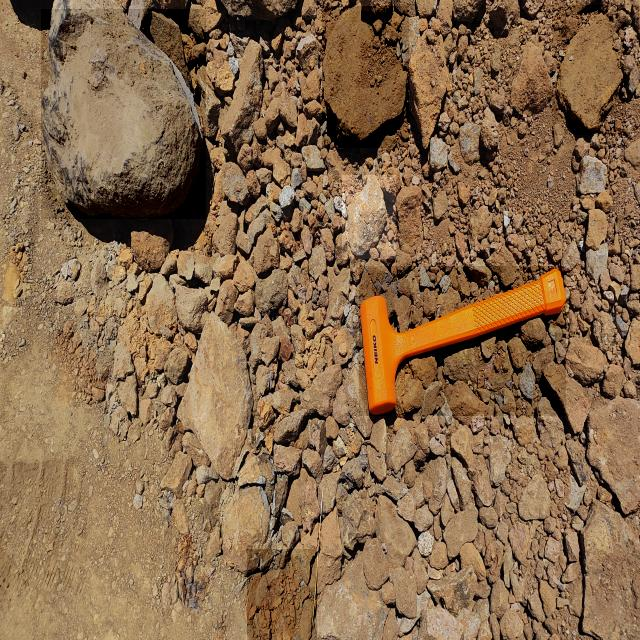Orange_hammer: (359, 266, 566, 416)
rock: (41, 9, 206, 219), (176, 312, 265, 484), (322, 6, 409, 145), (322, 15, 409, 148), (570, 489, 640, 640), (552, 5, 626, 136), (247, 549, 317, 640), (342, 175, 396, 259)
